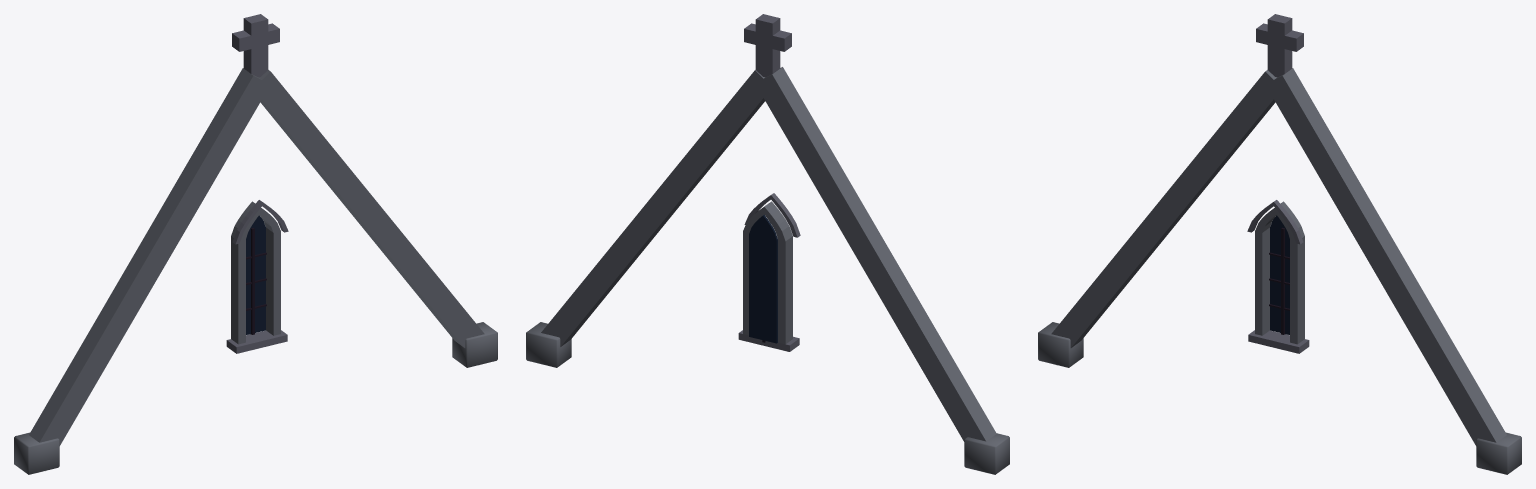
Rendered from kit_church_gable_w4.glb.
The picture shows the model from 3 angles, left to right: view 1: azimuth 30°, elevation 25°; view 2: azimuth 150°, elevation 25°; view 3: azimuth 330°, elevation 25°; orthographic projection.
Parts seen in each view (by area): view 1: kit_church_gable_w4; view 2: kit_church_gable_w4; view 3: kit_church_gable_w4.
Boxes of the visible parts, x1,y1,x2,y2 form: kit_church_gable_w4: (14,14,497,474); kit_church_gable_w4: (526,14,1009,474); kit_church_gable_w4: (1038,14,1521,474).
Bounding box in the file's own units: 4.42 × 3.55 × 0.24.
